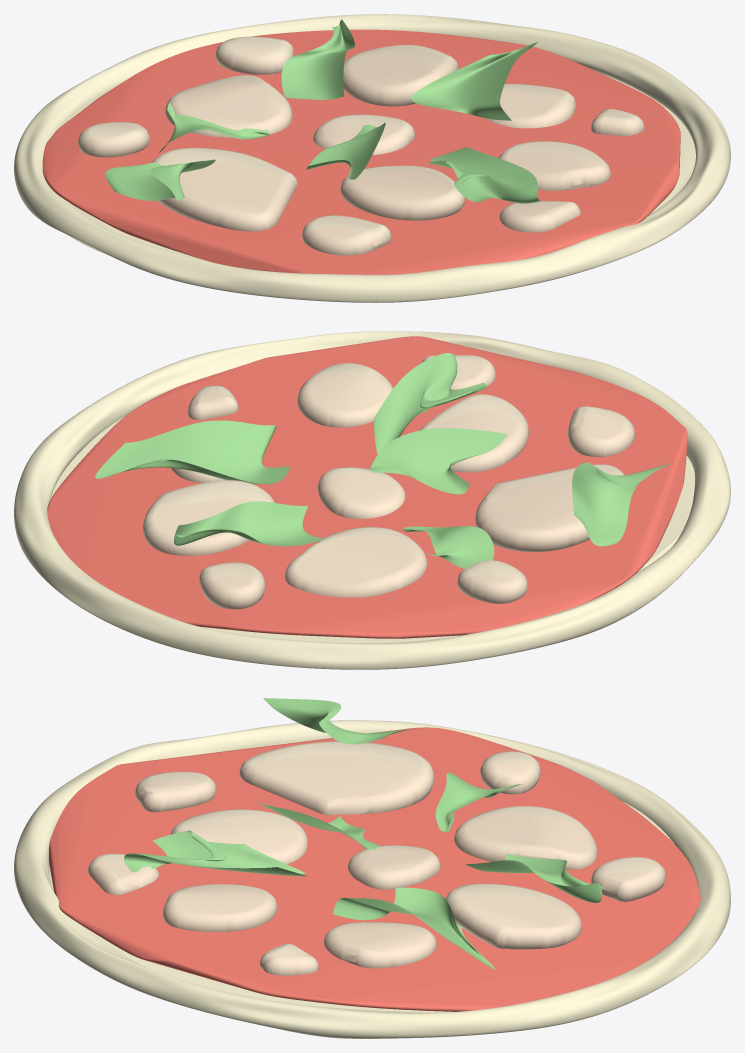
Rendered from pizza simplified.fbx.
3 views of the same model, one above another, from view 1: azimuth 30°, elevation 25°; view 2: azimuth 150°, elevation 25°; view 3: azimuth 270°, elevation 25° (orthographic).
Parts seen in each view (by area): view 1: s.1184, s.1196, s.1182, s.1213; view 2: s.1184, s.1182, s.1196, s.1213; view 3: s.1184, s.1196, s.1182, s.1213.
Boxes of the visible parts, x1,y1,x2,y2 form: s.1184: (42,29,680,274); s.1196: (78,36,644,255); s.1182: (14,14,730,302); s.1213: (105,19,541,203); s.1184: (47,336,687,638); s.1182: (14,331,730,669); s.1196: (142,355,635,609); s.1213: (95,353,674,568); s.1184: (49,727,700,1011); s.1196: (88,741,665,975); s.1182: (14,720,730,1038); s.1213: (124,698,603,969).
Bounding box in the file's own units: 64.37 × 8.55 × 64.45.
